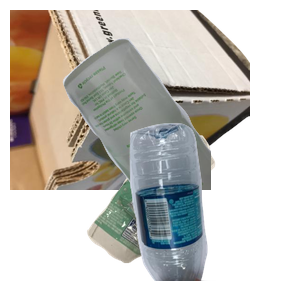cardboard: (10, 10, 250, 190)
glass: (60, 36, 300, 216)
plastic: (127, 120, 300, 300)
trash: (84, 133, 292, 300)
